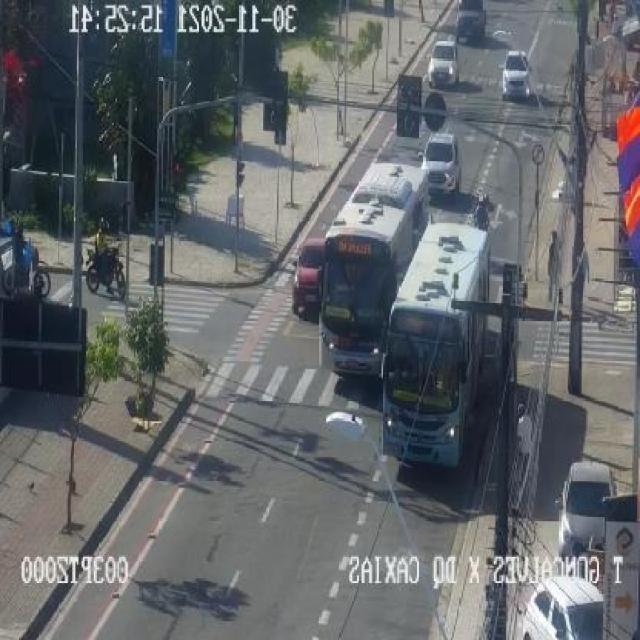Bus: (380, 223, 499, 466), (320, 163, 432, 375)
Car: (518, 576, 604, 640), (558, 461, 617, 554), (419, 132, 462, 194), (427, 41, 459, 87), (501, 51, 531, 100), (456, 1, 488, 43)
